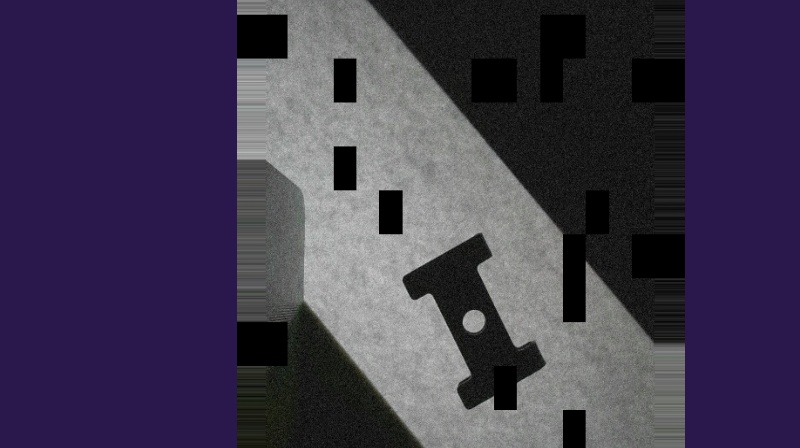O002: (398, 231, 547, 411)
